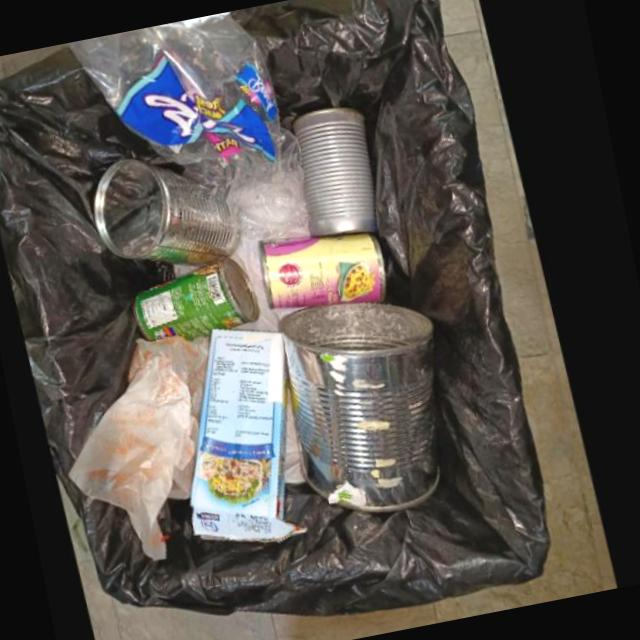bao_bi_thuc_pham: (73, 337, 216, 557)
nhom: (284, 299, 444, 517), (101, 158, 244, 267), (302, 106, 383, 236), (140, 258, 264, 339), (268, 233, 392, 312)
tui_ni_long: (76, 10, 315, 238)
vo_hop_sua: (193, 329, 302, 546)
